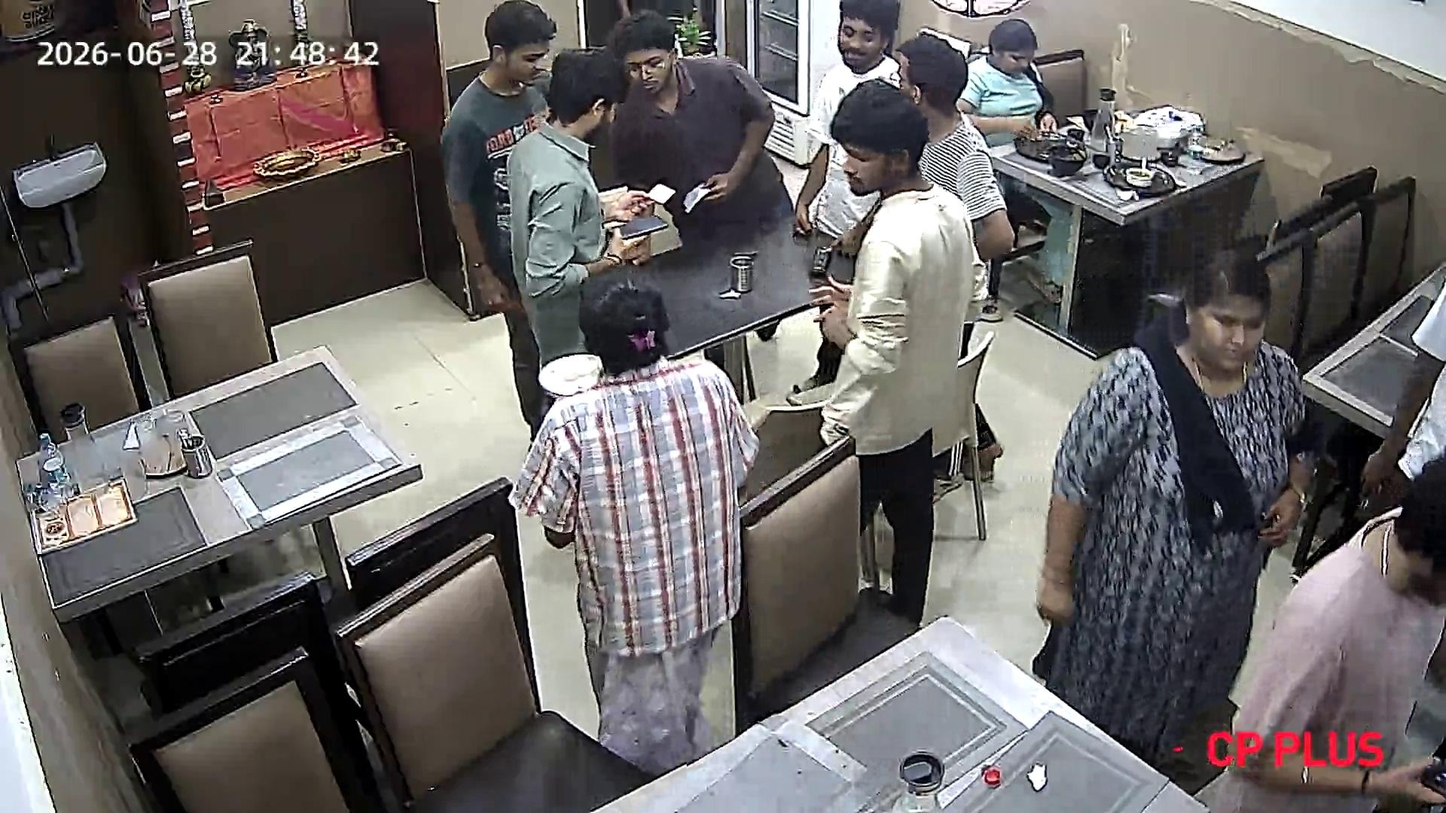clean: (584, 610, 1218, 811)
dirty: (13, 326, 428, 610)
occupied: (516, 156, 967, 346), (984, 35, 1230, 224)
